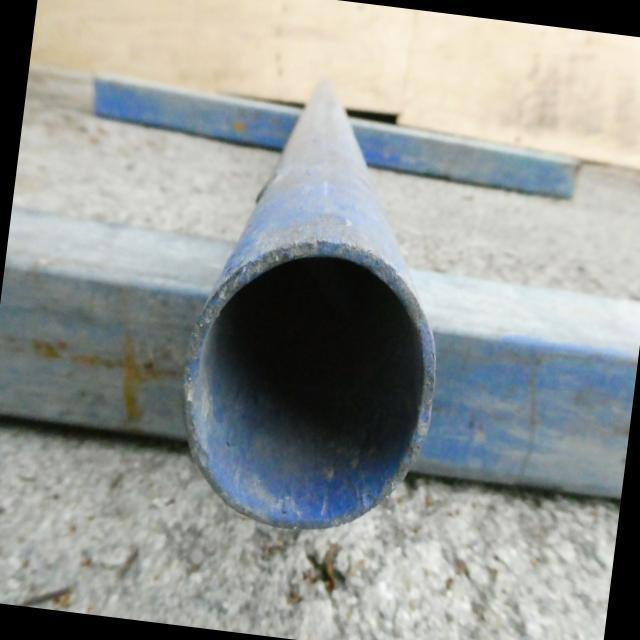pipe: (183, 237, 437, 531)
